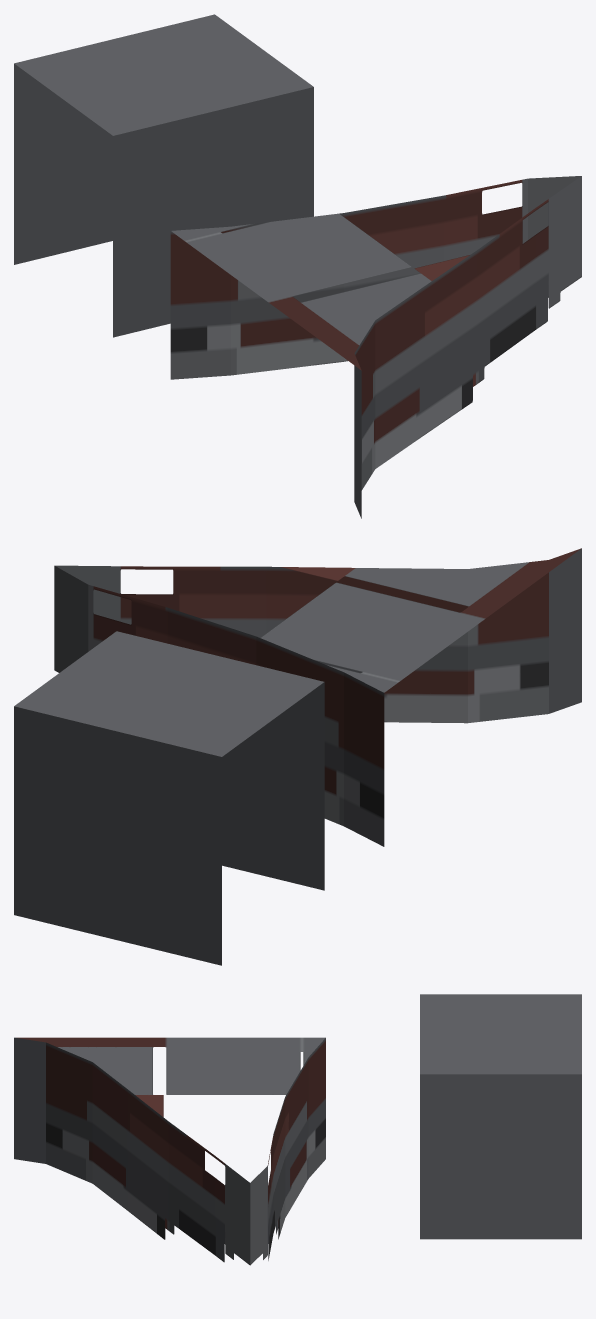
File: section-0.obj
3 views of the same model, one above another, from view 1: azimuth 30°, elevation 25°; view 2: azimuth 150°, elevation 25°; view 3: azimuth 270°, elevation 25° (orthographic). The views are drawn at different scales.
Bounding box in the file's own units: 0.59 × 0.3116 × 0.9738.
